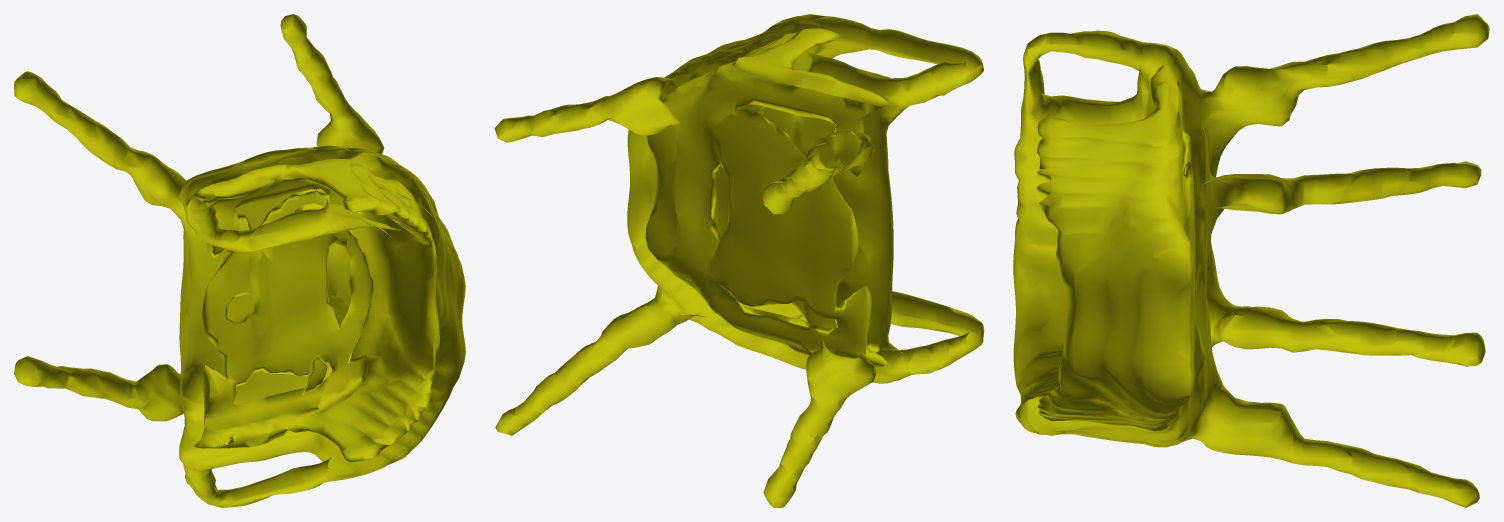
3 views of the same model, side by side, from view 1: azimuth 30°, elevation 25°; view 2: azimuth 150°, elevation 25°; view 3: azimuth 270°, elevation 25° (orthographic). The views are drawn at different scales.
Visible parts, largest first — view 1: world; view 2: world; view 3: world.
Part boxes in pixels (x1,y1,x2,y2): world: (14, 14, 465, 507); world: (494, 14, 984, 507); world: (1013, 14, 1489, 507).
Bounding box in the file's own units: 32.06 × 33.62 × 41.36.
